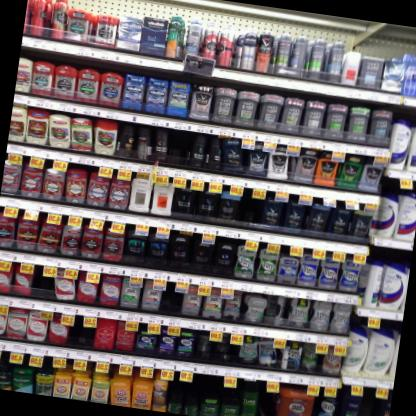empty_space: (161, 279, 185, 334), (29, 272, 53, 313), (353, 396, 372, 416)
